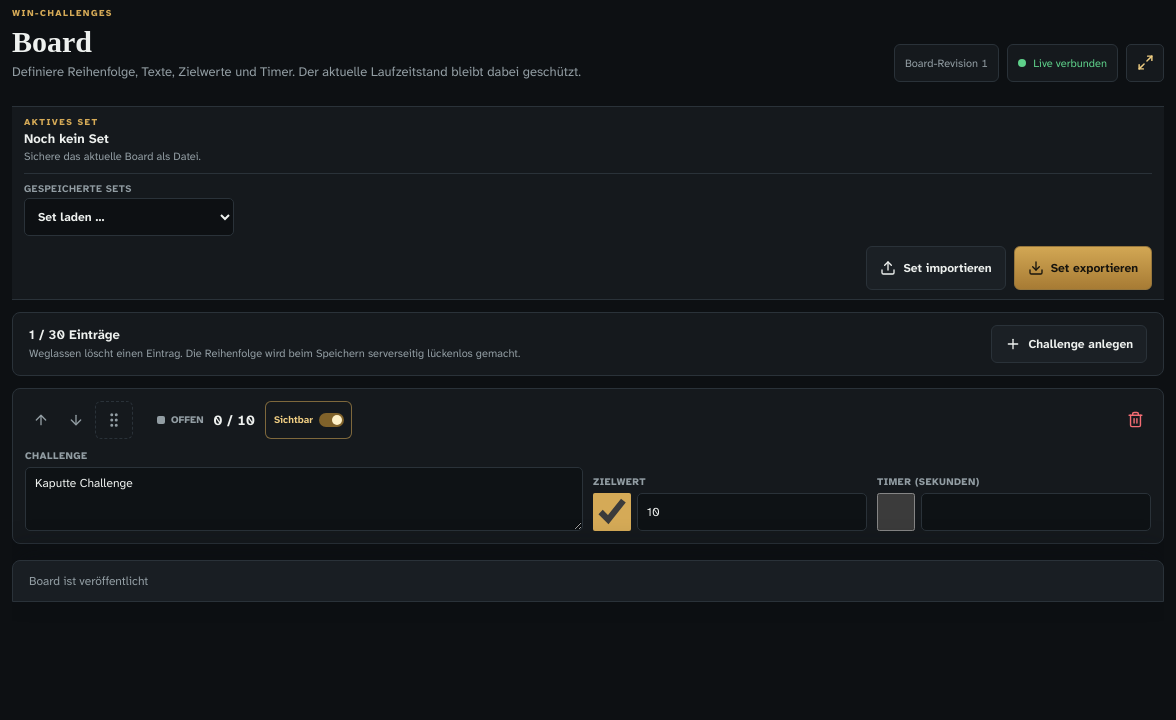
Scenario: ChallengeBoard › zeigt Feldfehler auch beim Laden mit dem Titel der betroffenen Challenge
This screenshot has width=1176, height=720.
Select "Kaputtes Set · mit Stand" in the dropdown named "Gespeichertes Set laden" at point(129, 217), box [24,198,234,236]
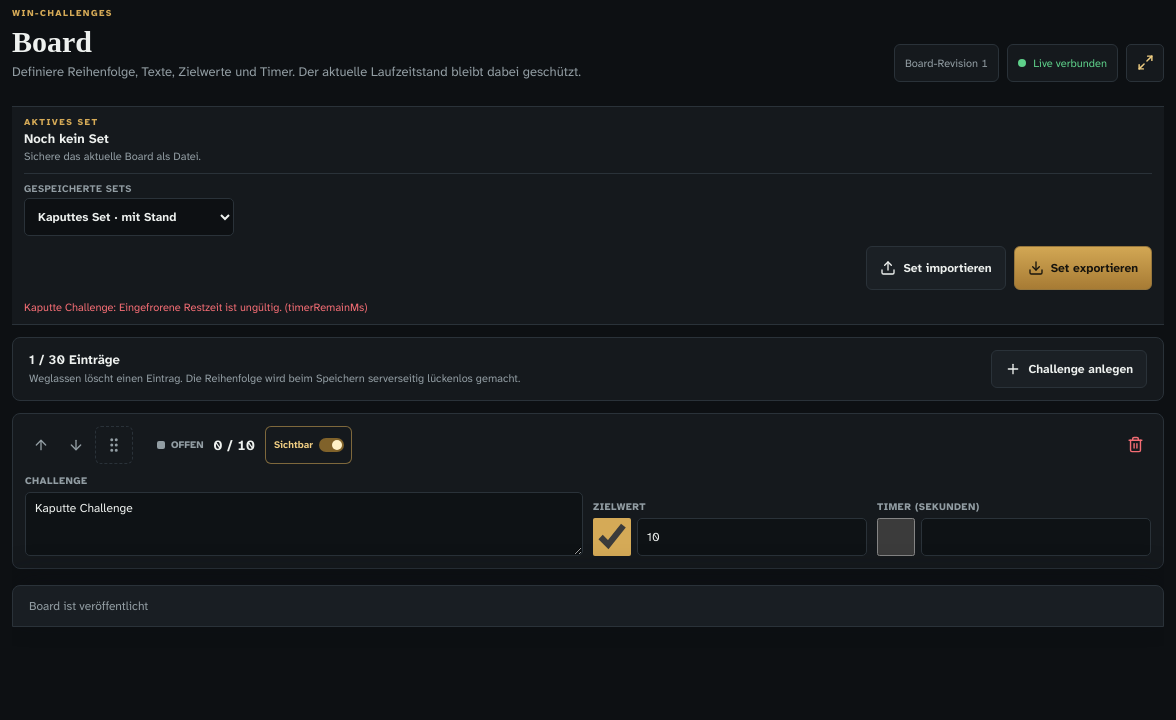
Now the text "Kaputte Challenge: Eingefrorene Restzeit ist ungültig. (timerRemainMs)" is shown, box [24,300,368,314]
